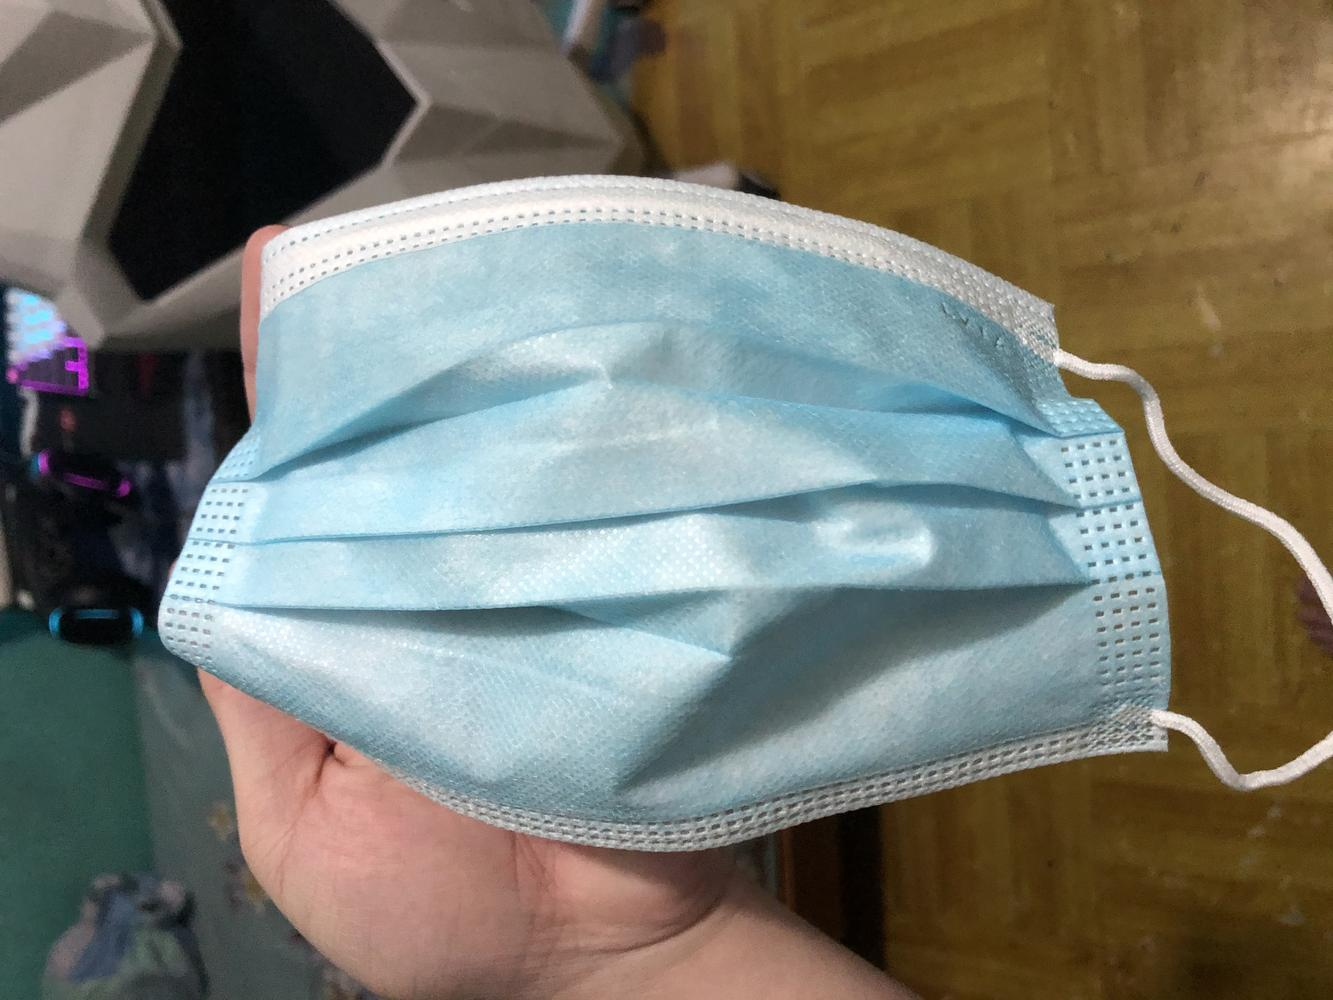Face Mask: (200, 211, 1152, 787)
Undefined Object: (156, 679, 869, 1000)
